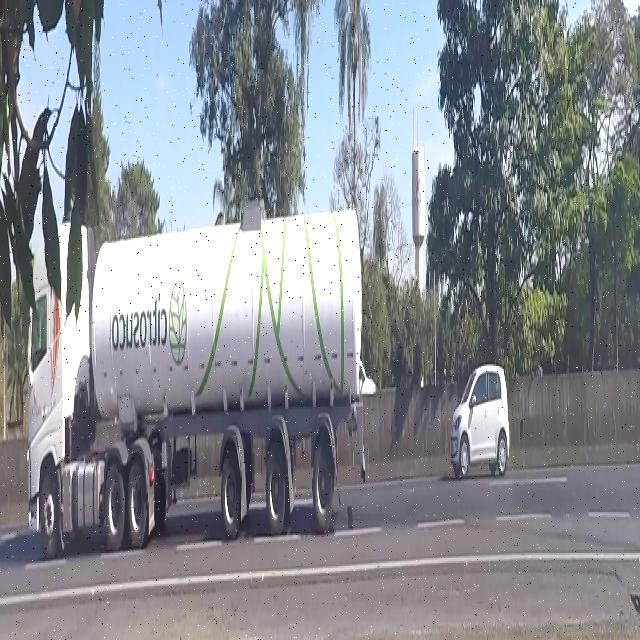-axle: (312, 427, 336, 544), (221, 434, 244, 546), (102, 452, 126, 558), (129, 450, 151, 556), (39, 467, 62, 565), (266, 438, 288, 540)
